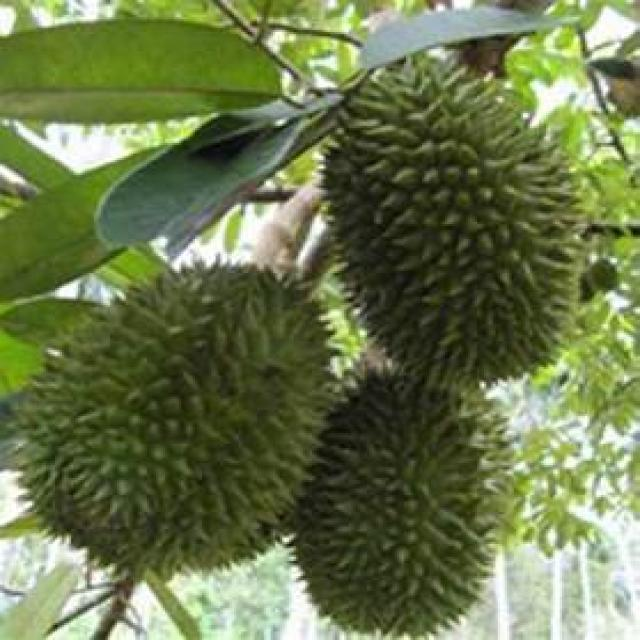immature: (10, 255, 338, 578), (322, 49, 589, 383), (289, 360, 505, 638)
